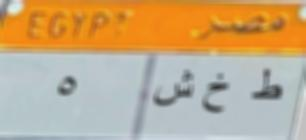5: (55, 72, 80, 101)
Taa: (247, 68, 287, 103)
khaa: (200, 73, 230, 122)
sheen: (150, 68, 195, 111)
